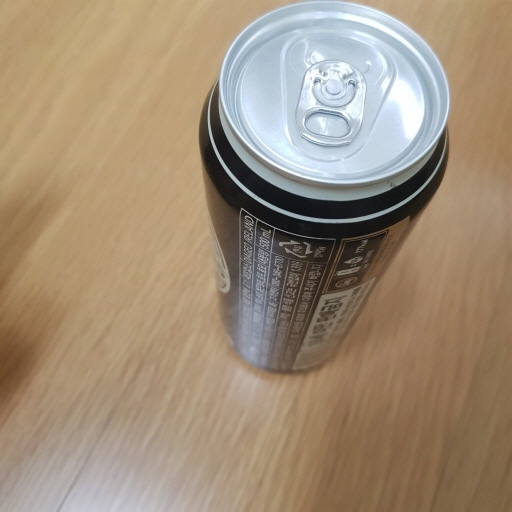Metal_0: (199, 3, 452, 381)
